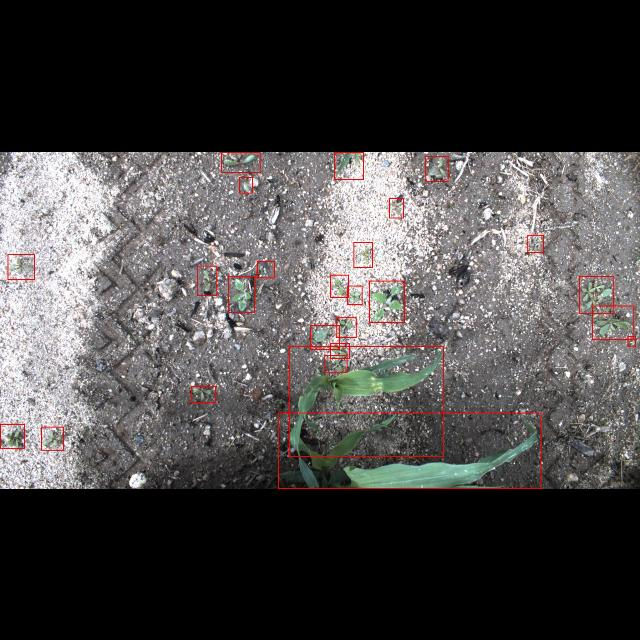crop: (278, 412, 540, 488), (288, 346, 444, 456), (334, 152, 364, 178)
weed: (370, 280, 404, 322), (592, 305, 634, 339), (580, 275, 614, 313), (228, 276, 254, 312), (222, 152, 260, 172), (310, 325, 340, 349), (8, 253, 34, 279), (1, 424, 25, 448), (198, 265, 216, 295), (426, 156, 448, 180), (42, 426, 64, 449), (353, 242, 372, 266), (331, 274, 349, 298), (336, 317, 356, 337), (325, 354, 347, 372), (191, 386, 215, 402), (330, 342, 350, 358), (388, 197, 404, 217), (528, 234, 544, 252), (258, 261, 274, 277), (348, 286, 362, 304), (240, 176, 252, 192), (628, 336, 636, 346)
